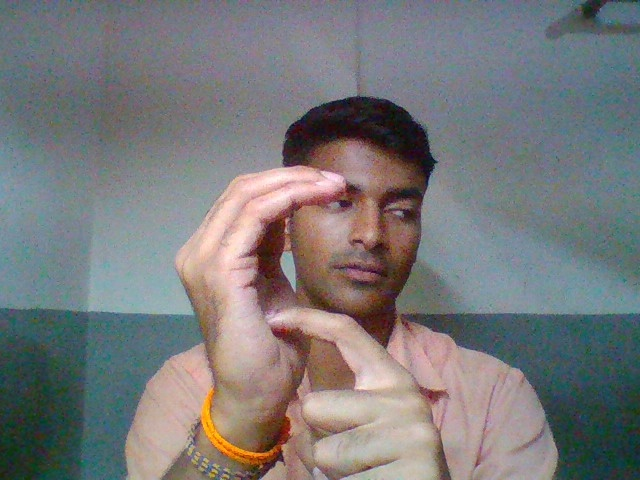G: (147, 159, 469, 480)
